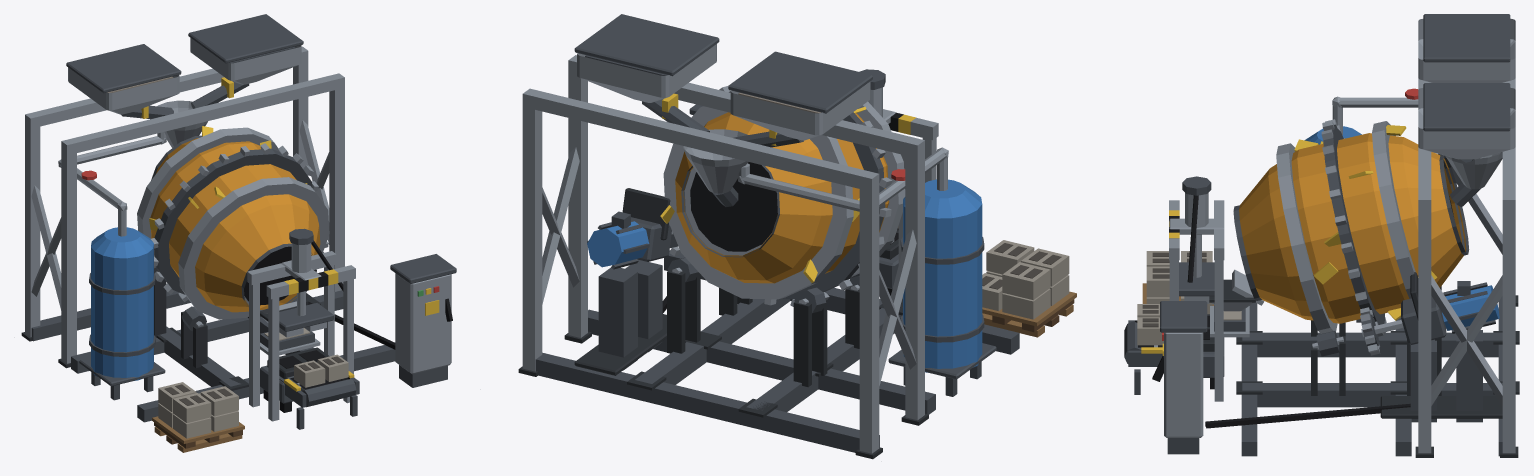
Rendered from betonniere_t2.glb.
The picture shows the model from 3 angles, left to right: view 1: azimuth 30°, elevation 25°; view 2: azimuth 150°, elevation 25°; view 3: azimuth 270°, elevation 25°; orthographic projection. The views are drawn at different scales.
Parts seen in each view (by area): view 1: pieces_acier.015, tambour_corps.002, pieces_acier_sombre.015, reservoir.002, armoire.008, tambour_bandage_0.003, tambour_couronne.002, tremie_bord_0.002, tremie_bord_-0.002, pieces_beton.006, pieces_fonte.015, tambour_bandage_1.004 (+14 smaller); view 2: pieces_acier.015, pieces_acier_sombre.015, pieces_fonte.015, tambour_corps.002, reservoir.002, tambour_bandage_1.004, tremie_bord_-0.002, tremie_bord_0.002, pieces_beton.006, tambour_entree_fond.004, tremie_-0.002, tremie_0.002 (+9 smaller); view 3: tambour_corps.002, pieces_acier_sombre.015, pieces_acier.015, pieces_fonte.015, tremie_bord_0.002, tremie_bord_-0.002, armoire.008, tambour_bandage_0.003, tremie_0.002, tambour_bandage_1.004, tremie_-0.002, pieces_noir.015 (+14 smaller).
Boxes of the visible parts, x1=… form: pieces_acier.015: x1=25, y1=46, x2=355, y2=421; tambour_corps.002: x1=150, y1=138, x2=320, y2=312; pieces_acier_sombre.015: x1=31, y1=81, x2=447, y2=429; reservoir.002: x1=91, y1=244, x2=153, y2=380; armoire.008: x1=395, y1=273, x2=451, y2=374; tambour_bandage_0.003: x1=178, y1=177, x2=329, y2=319; tambour_couronne.002: x1=154, y1=148, x2=312, y2=294; tremie_bord_0.002: x1=188, y1=14, x2=303, y2=63; tremie_bord_-0.002: x1=66, y1=44, x2=181, y2=93; pieces_beton.006: x1=158, y1=382, x2=238, y2=438; pieces_fonte.015: x1=21, y1=279, x2=329, y2=390; tambour_bandage_1.004: x1=137, y1=127, x2=279, y2=256; pieces_acier.015: x1=522, y1=55, x2=948, y2=453; pieces_acier_sombre.015: x1=535, y1=69, x2=1019, y2=452; pieces_fonte.015: x1=518, y1=188, x2=928, y2=459; tambour_corps.002: x1=675, y1=112, x2=889, y2=283; reservoir.002: x1=903, y1=202, x2=982, y2=372; tambour_bandage_1.004: x1=663, y1=106, x2=853, y2=299; tremie_bord_-0.002: x1=728, y1=51, x2=872, y2=113; tremie_bord_0.002: x1=574, y1=14, x2=719, y2=76; pieces_beton.006: x1=982, y1=240, x2=1069, y2=319; tambour_entree_fond.004: x1=690, y1=162, x2=777, y2=251; tremie_-0.002: x1=730, y1=81, x2=870, y2=140; tremie_0.002: x1=577, y1=44, x2=716, y2=102; tambour_corps.002: x1=1239, y1=133, x2=1466, y2=323; pieces_acier_sombre.015: x1=1124, y1=159, x2=1502, y2=456; pieces_acier.015: x1=1154, y1=78, x2=1515, y2=453; pieces_fonte.015: x1=1203, y1=272, x2=1519, y2=457; tremie_bord_0.002: x1=1423, y1=83, x2=1510, y2=131; tremie_bord_-0.002: x1=1423, y1=14, x2=1510, y2=62; armoire.008: x1=1164, y1=332, x2=1203, y2=437; tambour_bandage_0.003: x1=1276, y1=143, x2=1337, y2=333; tremie_0.002: x1=1418, y1=87, x2=1515, y2=159; tambour_bandage_1.004: x1=1372, y1=121, x2=1415, y2=298; tremie_-0.002: x1=1418, y1=18, x2=1515, y2=82; pieces_noir.015: x1=1135, y1=195, x2=1410, y2=428.
Size of the model in its own units: 1.5 by 1.29 by 1.5.
